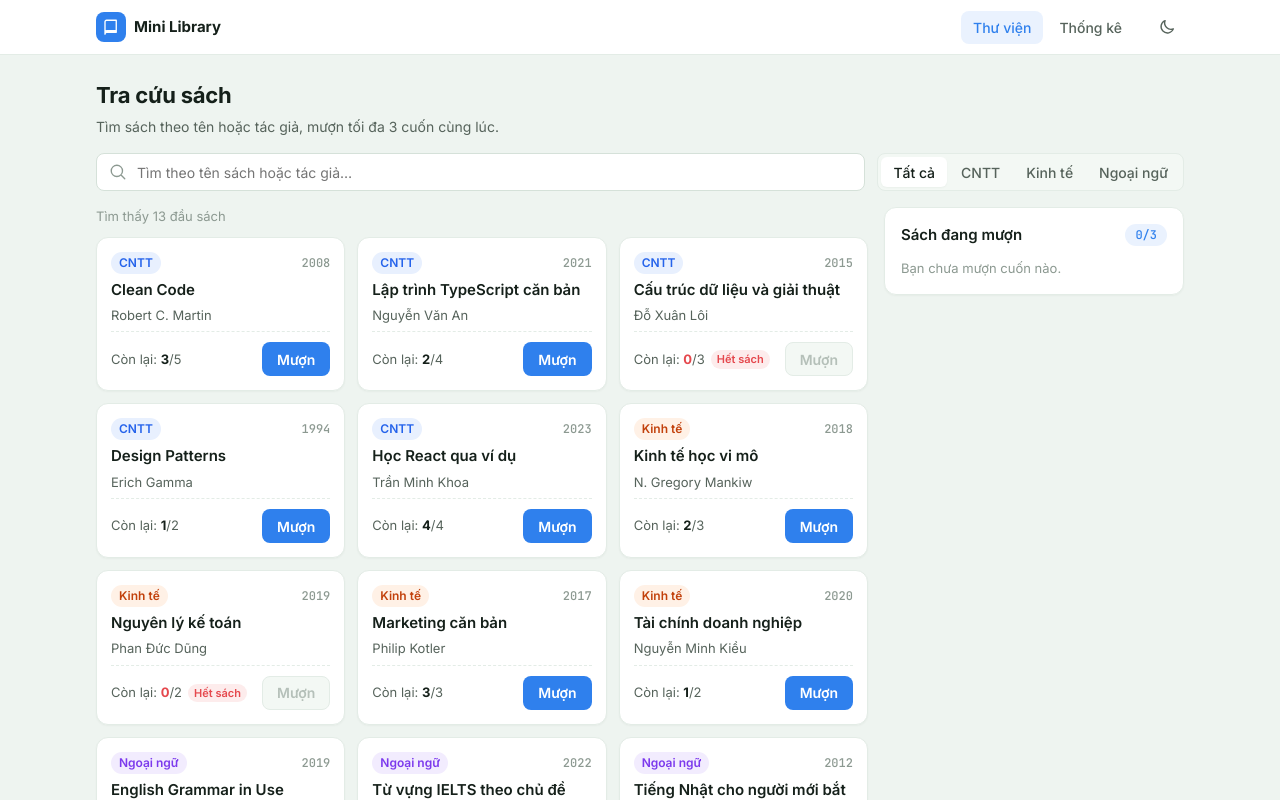
<App /> (tích hợp) › mượn quá 3 cuốn thì bị chặn và hiện cảnh báo
Click the button "Mượn" below "2008" at (296, 359), box top-left (262, 342), bottom-right (330, 376)
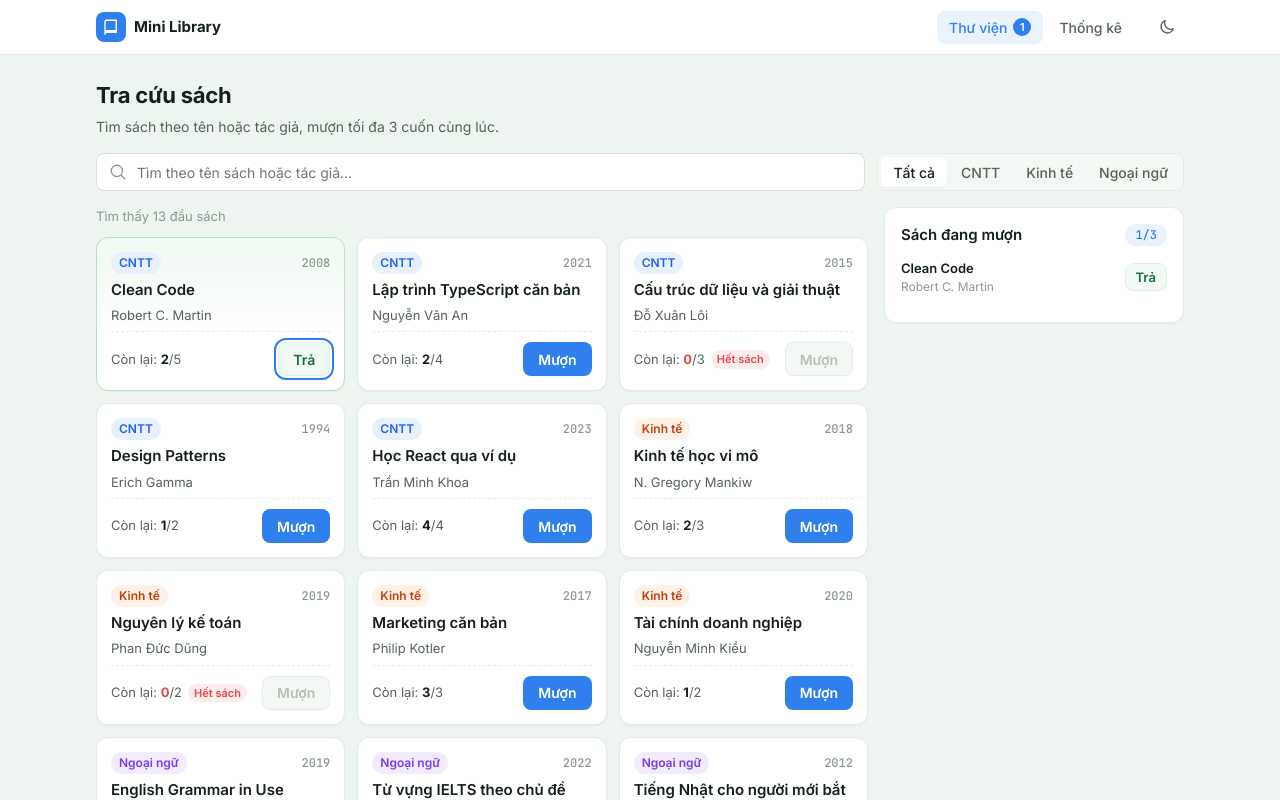
Click the button "Mượn" below "2021" at (558, 359), box top-left (523, 342), bottom-right (592, 376)
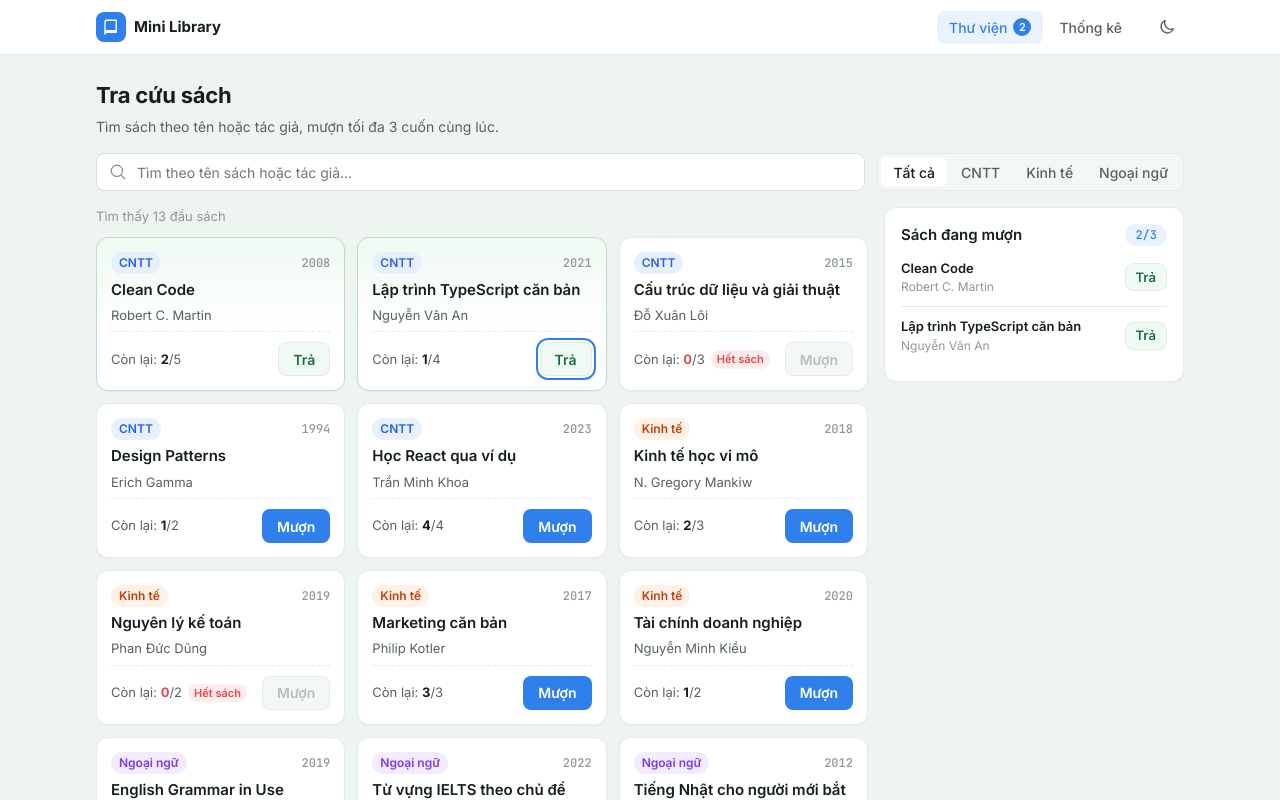
Click the button "Mượn" below "1994" at (296, 526), box top-left (262, 509), bottom-right (330, 543)
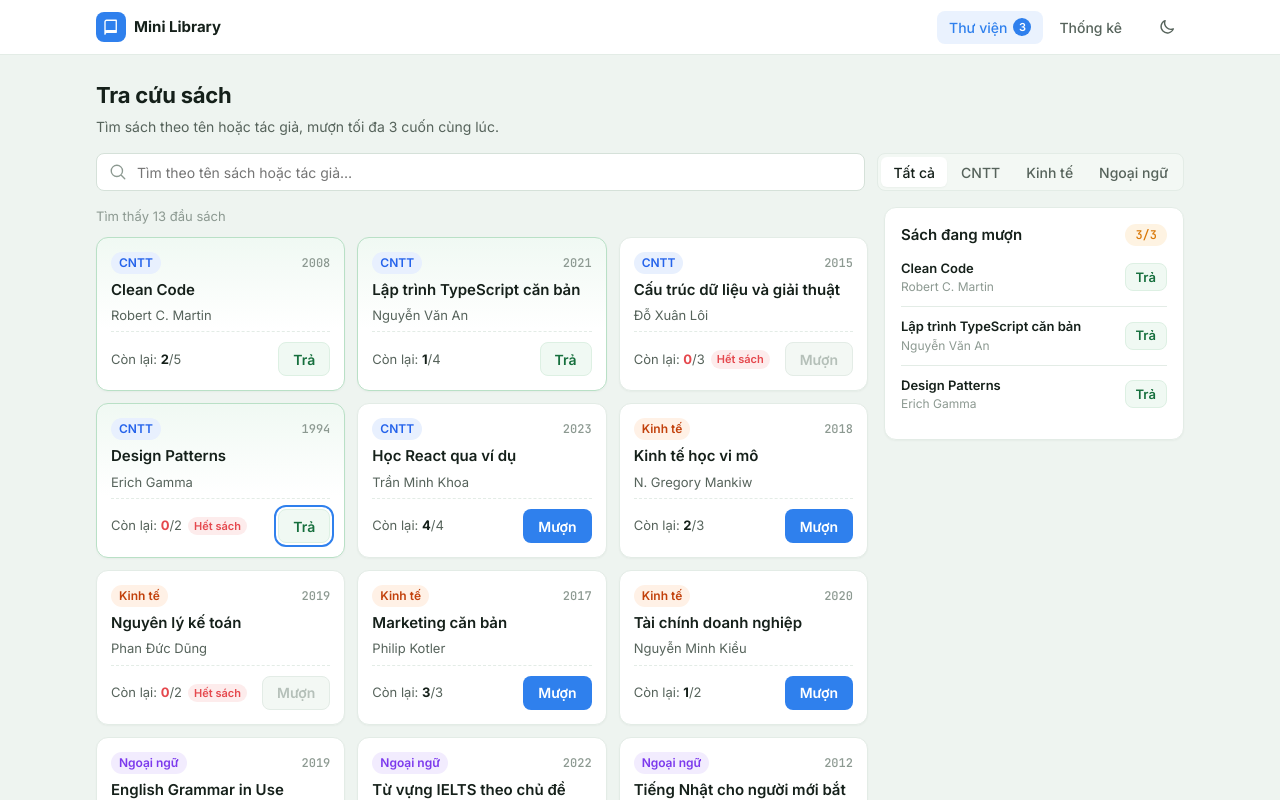
Click the button "Mượn" below "2023" at (558, 526), box top-left (523, 509), bottom-right (592, 543)
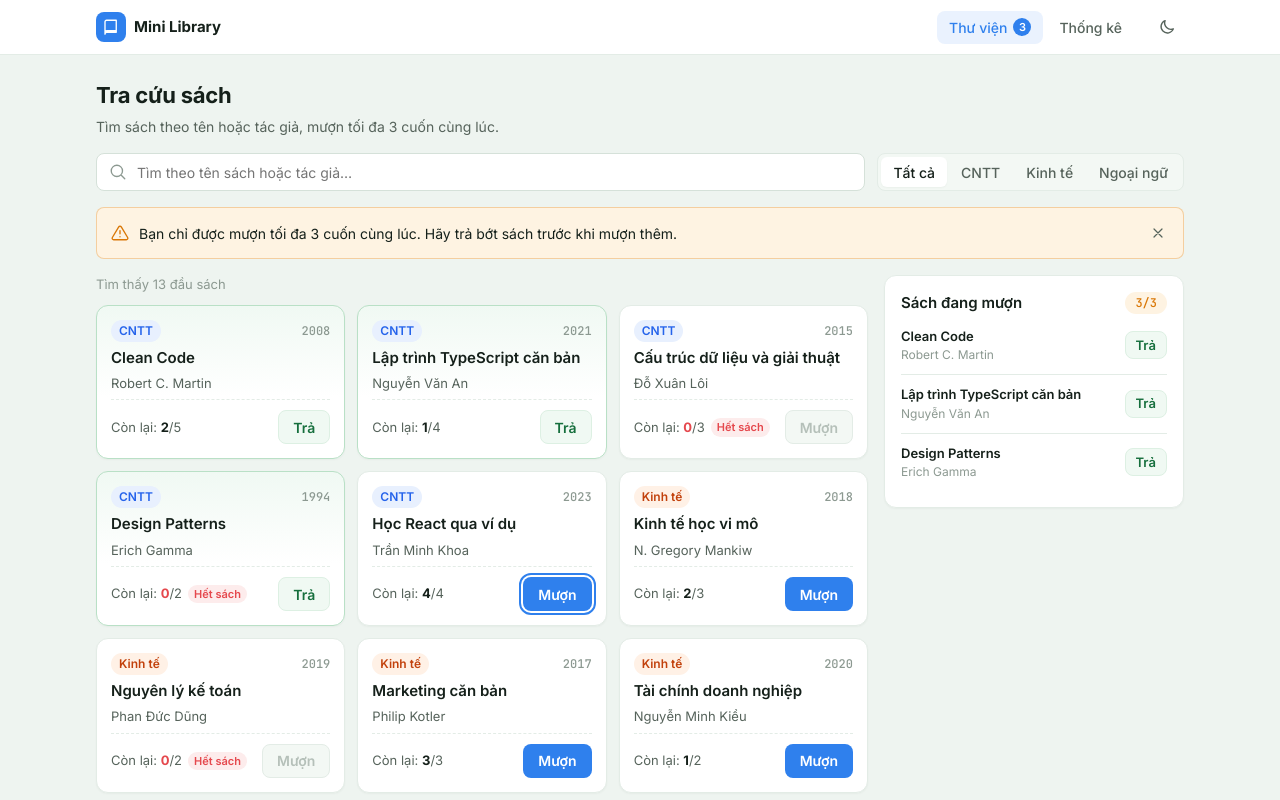
Check: the message shows "tối đa 3 cuốn", box top-left (139, 224), bottom-right (677, 242)
